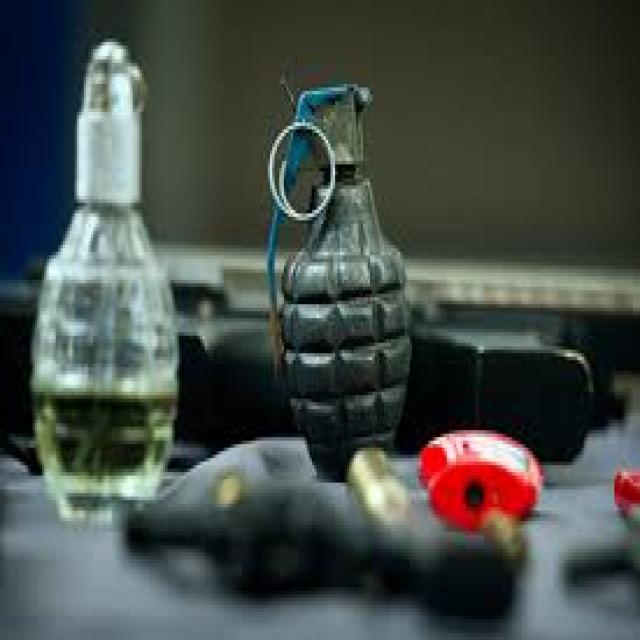grenade: (260, 62, 418, 488)
